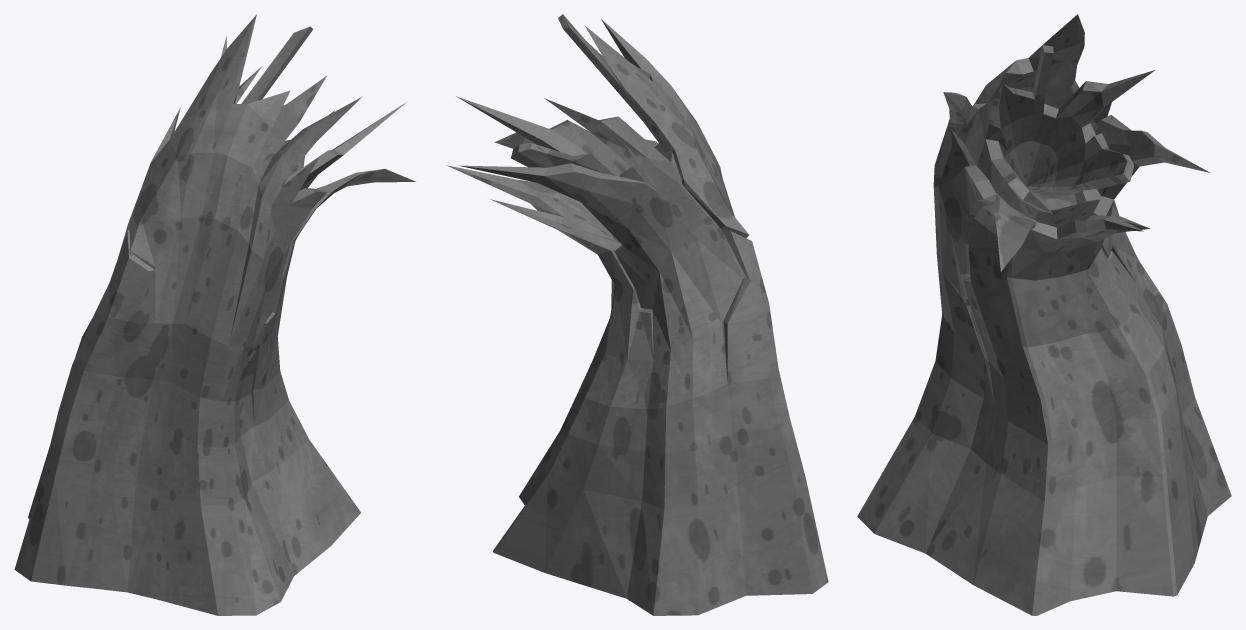
Rendered from FallenTree.fbx.
3 views of the same model, side by side, from view 1: azimuth 30°, elevation 25°; view 2: azimuth 150°, elevation 25°; view 3: azimuth 270°, elevation 25° (orthographic). The views are drawn at different scales.
Parts seen in each view (by area): view 1: SM_ENV_Nature_DeadTree_FallenTrunk01.mo; view 2: SM_ENV_Nature_DeadTree_FallenTrunk01.mo; view 3: SM_ENV_Nature_DeadTree_FallenTrunk01.mo.
Boxes of the visible parts, x1=… form: SM_ENV_Nature_DeadTree_FallenTrunk01.mo: x1=14, y1=14, x2=415, y2=615; SM_ENV_Nature_DeadTree_FallenTrunk01.mo: x1=446, y1=14, x2=828, y2=615; SM_ENV_Nature_DeadTree_FallenTrunk01.mo: x1=857, y1=14, x2=1231, y2=615.
Size of the model in its own units: 845 by 1086 by 662.
Materials: 1 (1 with a texture image).
